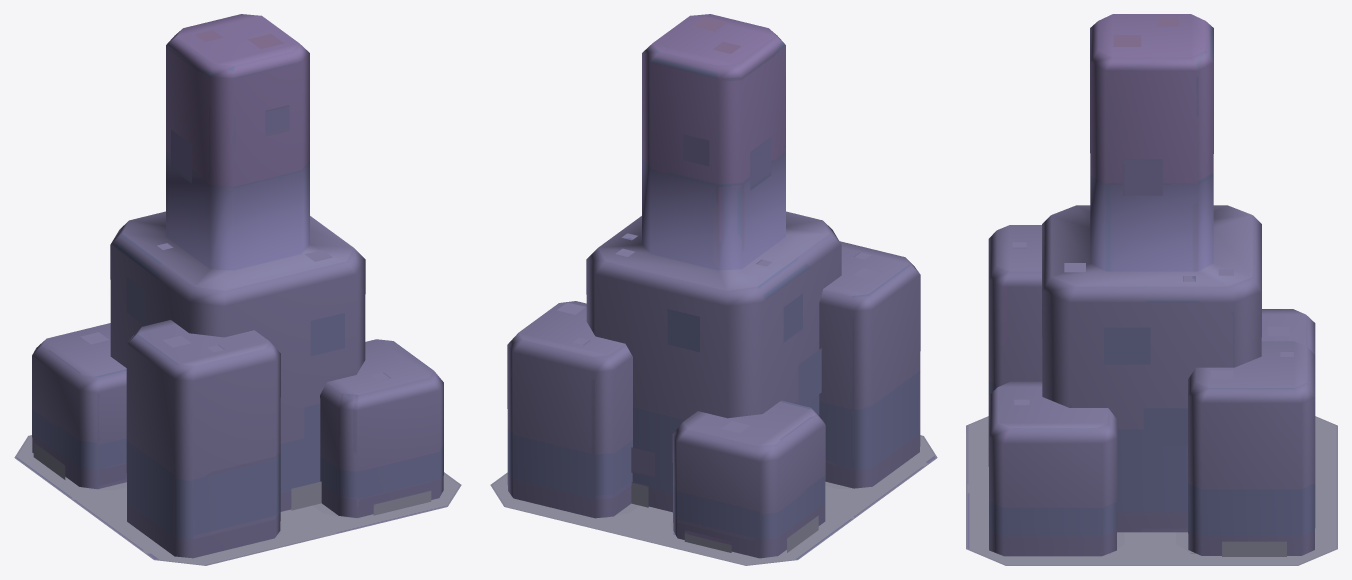
Rendered from B_cave1_rock02.fbx.
3 views of the same model, side by side, from view 1: azimuth 30°, elevation 25°; view 2: azimuth 150°, elevation 25°; view 3: azimuth 270°, elevation 25° (orthographic). The views are drawn at different scales.
Parts seen in each view (by area): view 1: model 1, model; view 2: model 1, model; view 3: model 1, model.
Part boxes in pixels (box(x1,y1,x2,y2)): model 1: box(14, 14, 461, 565); model: box(16, 435, 459, 564); model 1: box(490, 14, 937, 565); model: box(492, 436, 935, 564); model 1: box(966, 14, 1337, 565); model: box(967, 417, 1336, 565).
Size of the model in its own units: 4.83 by 6.53 by 4.83.
1 material, 1 textured.
